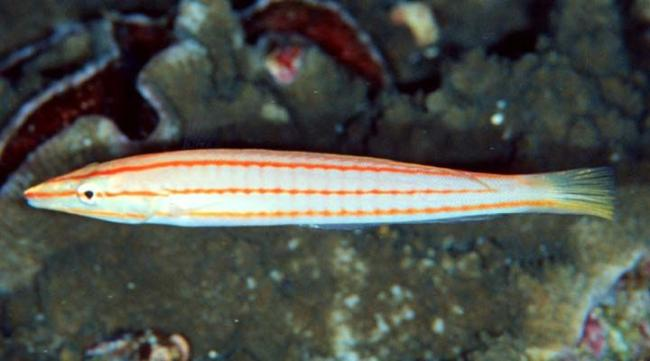fish: (23, 149, 616, 231)
